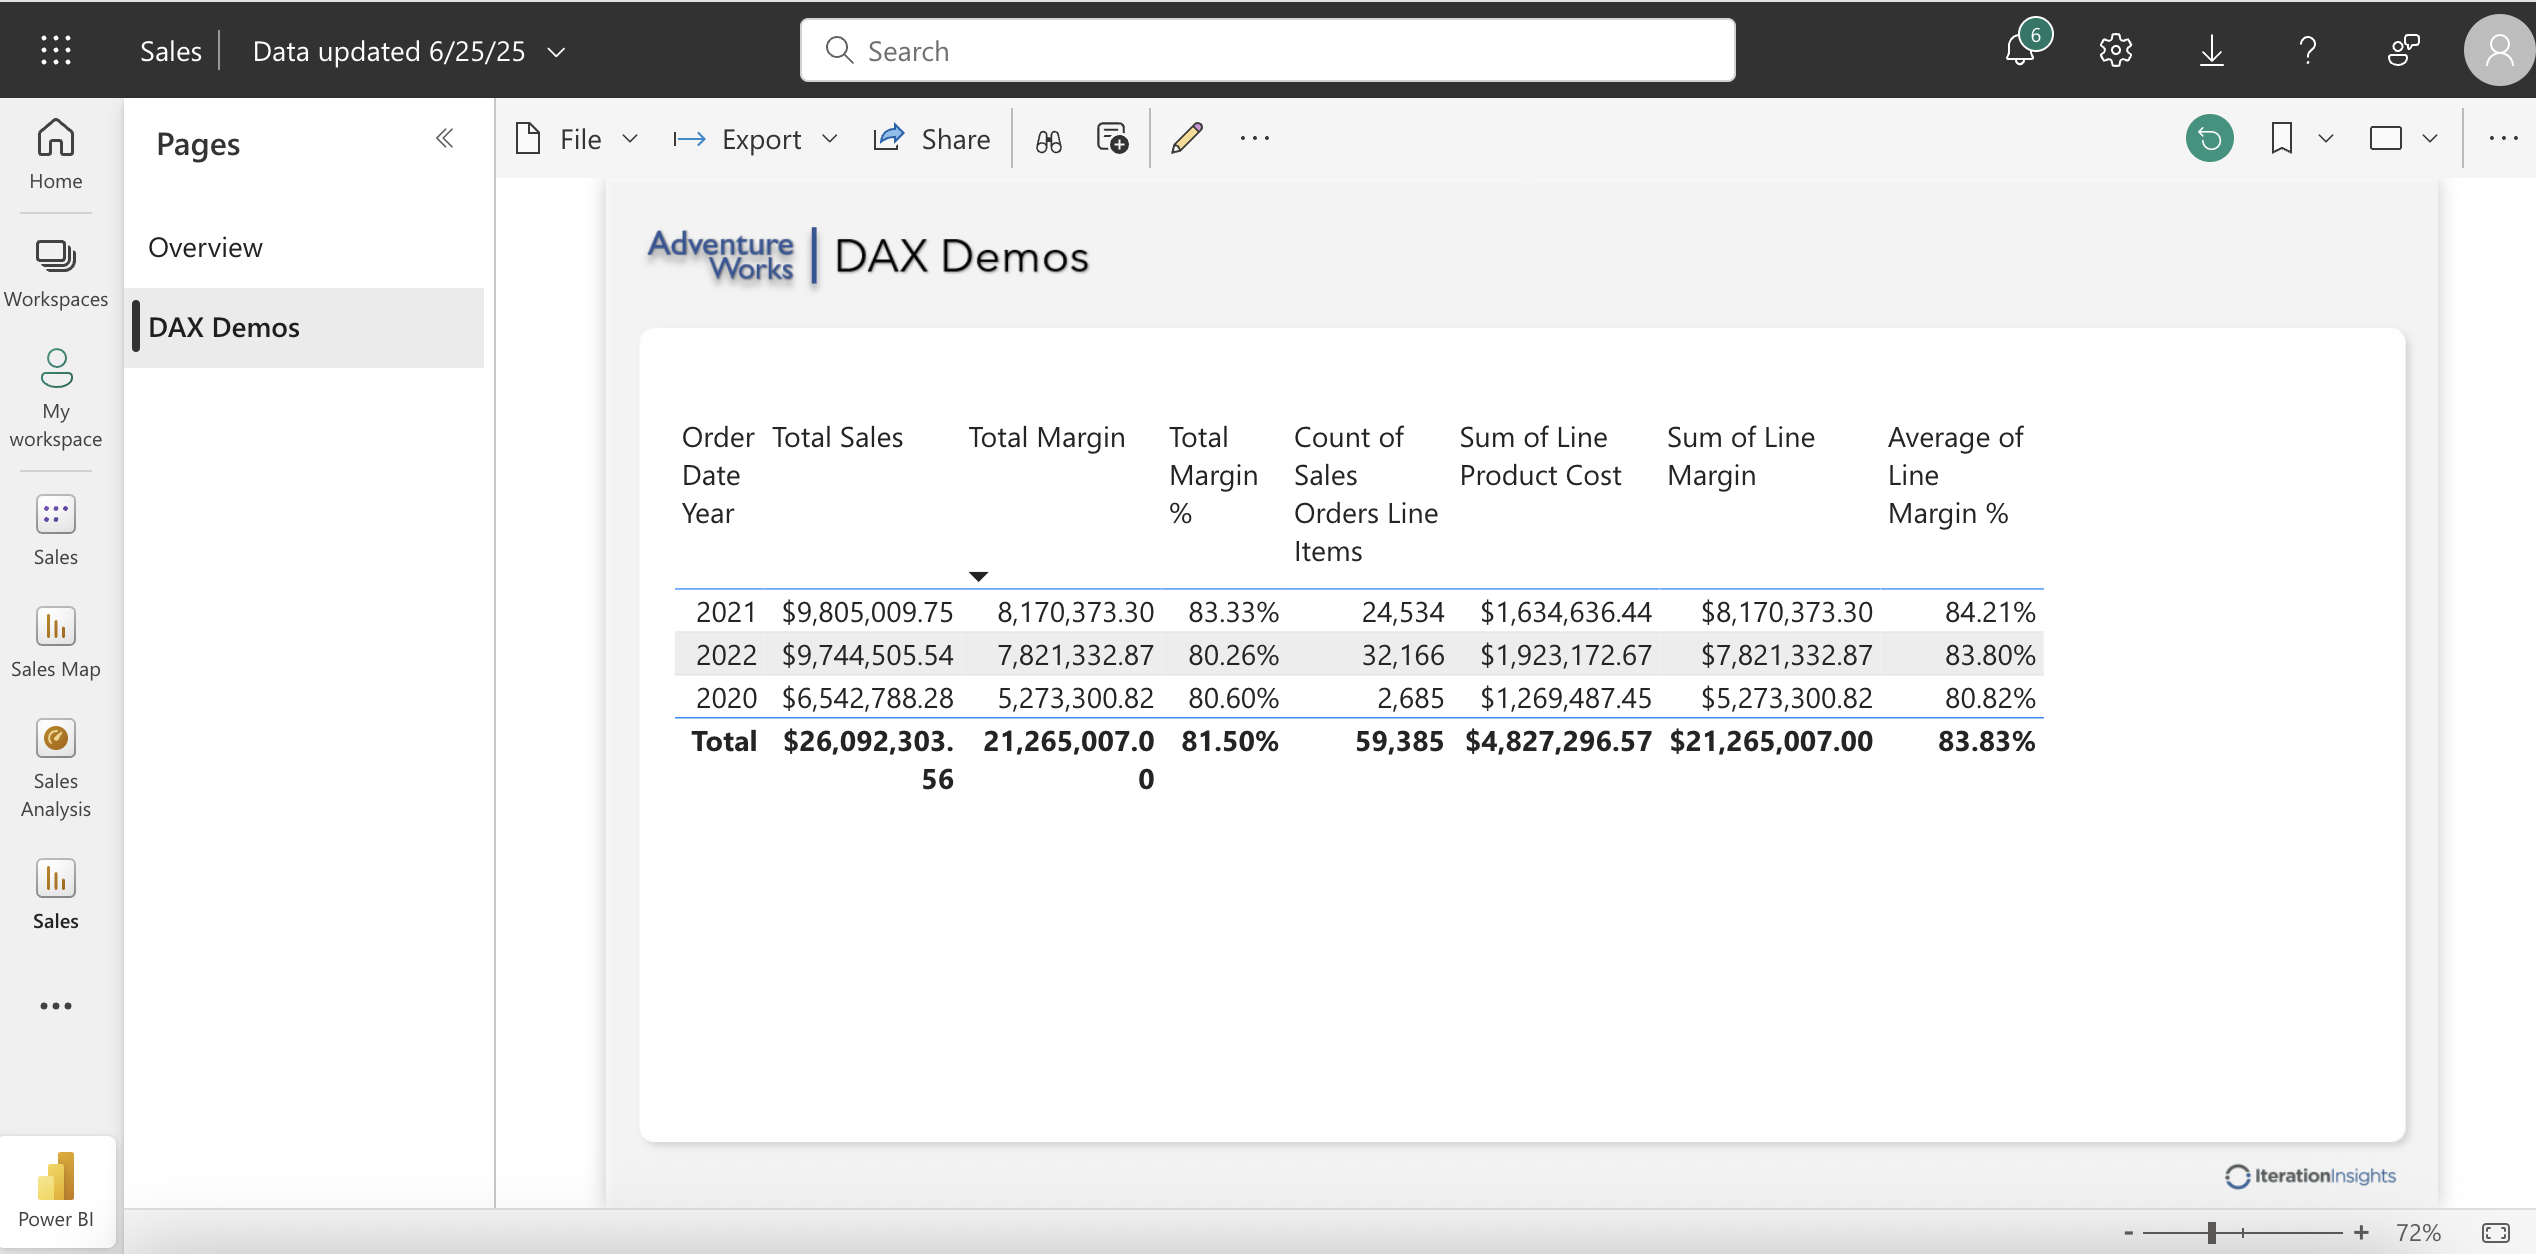

The dashboard page shown, as its layout file describes it:
{"tool":"powerbi","page":{"name":"DAX Demos","canvas":[1280,720],"ordinal":1},"visuals":[{"type":"tableEx","fields":{"Values":["Order Date.Order Date Year","Sales.Total Sales","Sales.Total Margin","Sales.Total Margin %","Sales.Count of Sales Orders Line Items","Sum(Sales.Line Product Cost)","Sum(Sales.Line Margin)","Avg(Sales.Line Margin %)"]},"box":[42.6,161.2,1213.3,416.8],"z":0}]}

Visuals, with their boxes on the page's 1280x720 design canvas (x1, y1, x2, y2). These are canvas units, not pixel positions in the 2536x1254 screenshot, which may show the page scaled, cropped or inside an application window:
tableEx - Order Date.Order Date Year x Sales.Total Sales: bbox(43, 161, 1256, 578)
